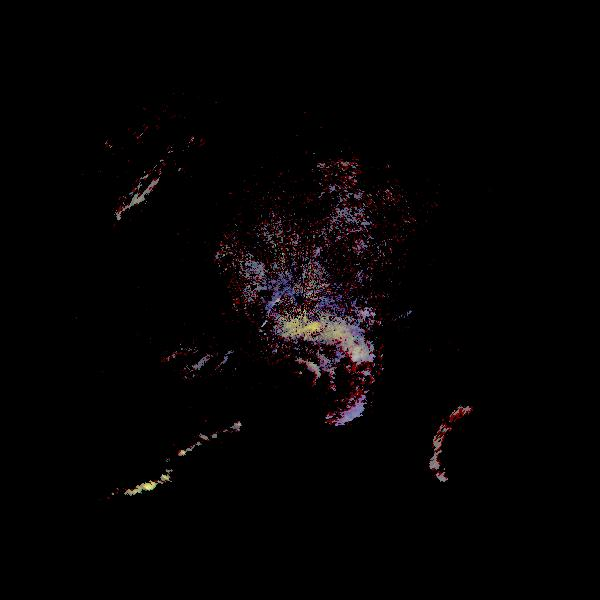roost: (222, 280, 408, 466), (410, 388, 533, 511)
